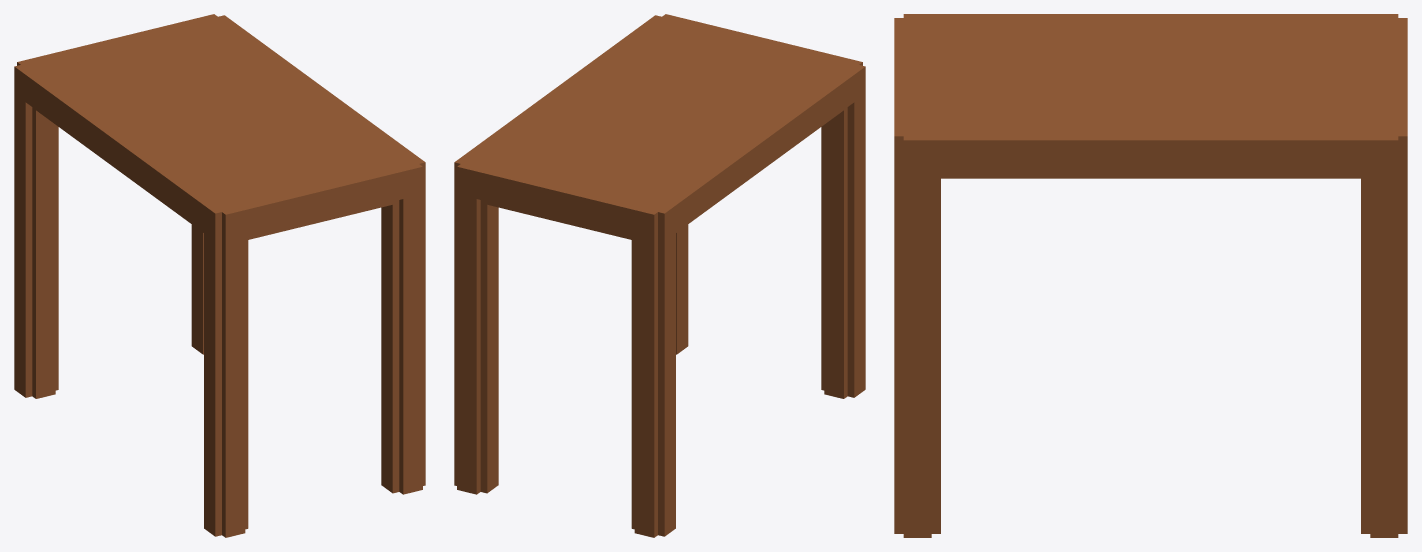
File: SchoolPack-73-Student Table.obj
The picture shows the model from 3 angles, left to right: view 1: azimuth 30°, elevation 25°; view 2: azimuth 150°, elevation 25°; view 3: azimuth 270°, elevation 25°; orthographic projection. The views are drawn at different scales.
Visible parts, largest first — view 1: Student Table; view 2: Student Table; view 3: Student Table.
Boxes of the visible parts, bbox=[...] form: Student Table: bbox=[14, 14, 425, 537]; Student Table: bbox=[454, 14, 865, 537]; Student Table: bbox=[894, 14, 1407, 537].
Size of the model in its own units: 3.2 by 4.7 by 5.5.
Materials: 1 (1 with a texture image).
